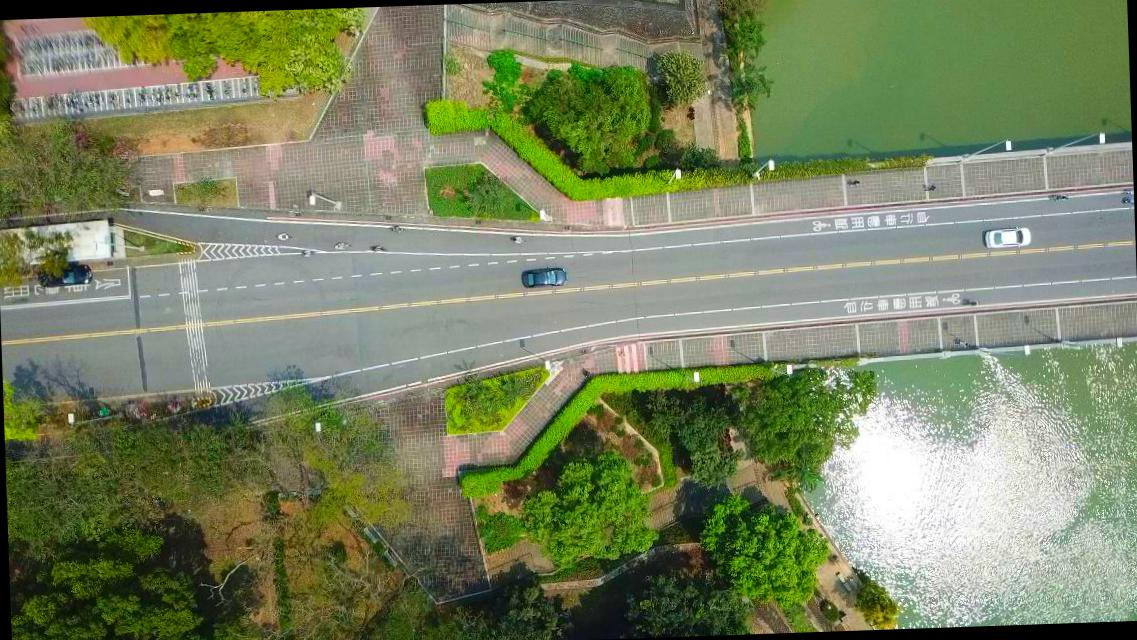vehicle: (36, 264, 92, 288), (520, 266, 567, 289), (983, 226, 1031, 248)
